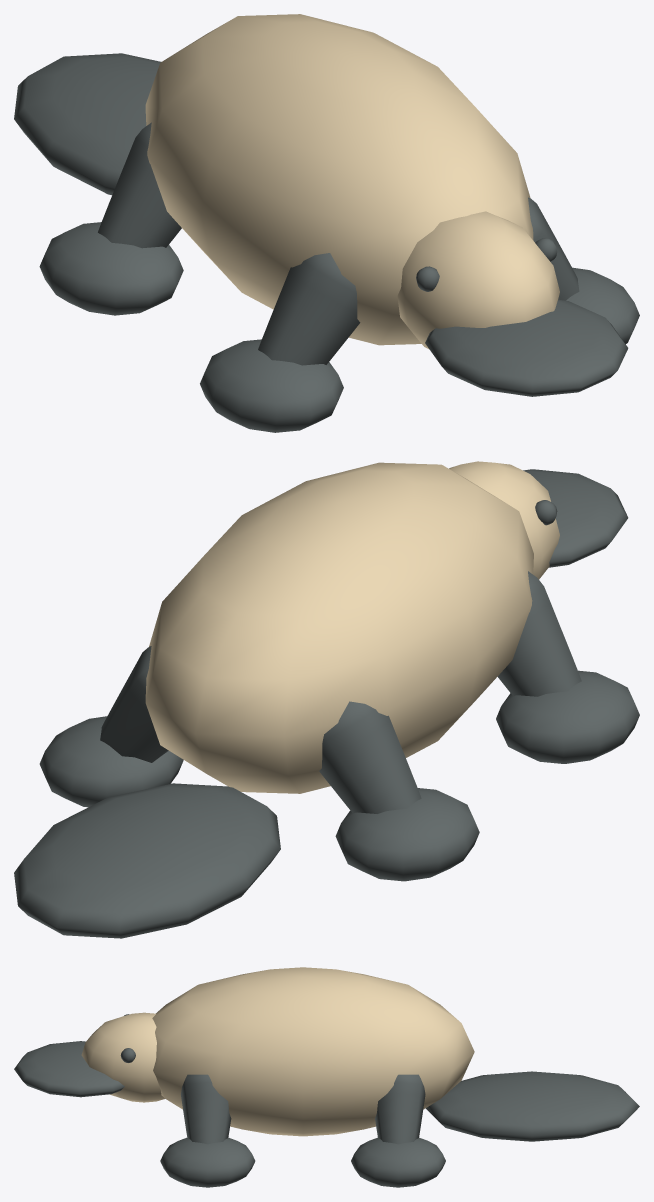
File: outback-and-australian-wildlife-platypus-fa2c387e__5916.glb
3 views of the same model, one above another, from view 1: azimuth 30°, elevation 25°; view 2: azimuth 150°, elevation 25°; view 3: azimuth 270°, elevation 25° (orthographic). The views are drawn at different scales.
Visible parts, largest first — view 1: platypus; view 2: platypus; view 3: platypus.
Boxes of the visible parts, x1=… form: platypus: x1=14, y1=14, x2=639, y2=432; platypus: x1=14, y1=461, x2=639, y2=938; platypus: x1=14, y1=967, x2=639, y2=1187.
Size of the model in its own units: 0.45 by 0.28 by 0.985.
